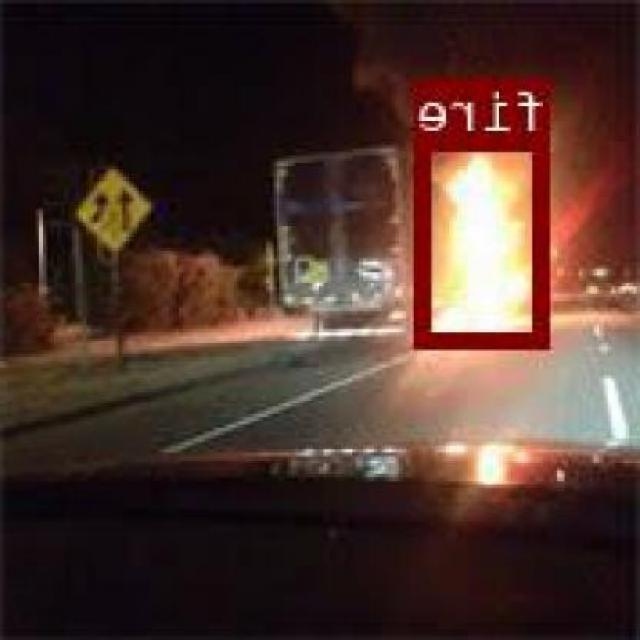Fire: (420, 131, 552, 344)
